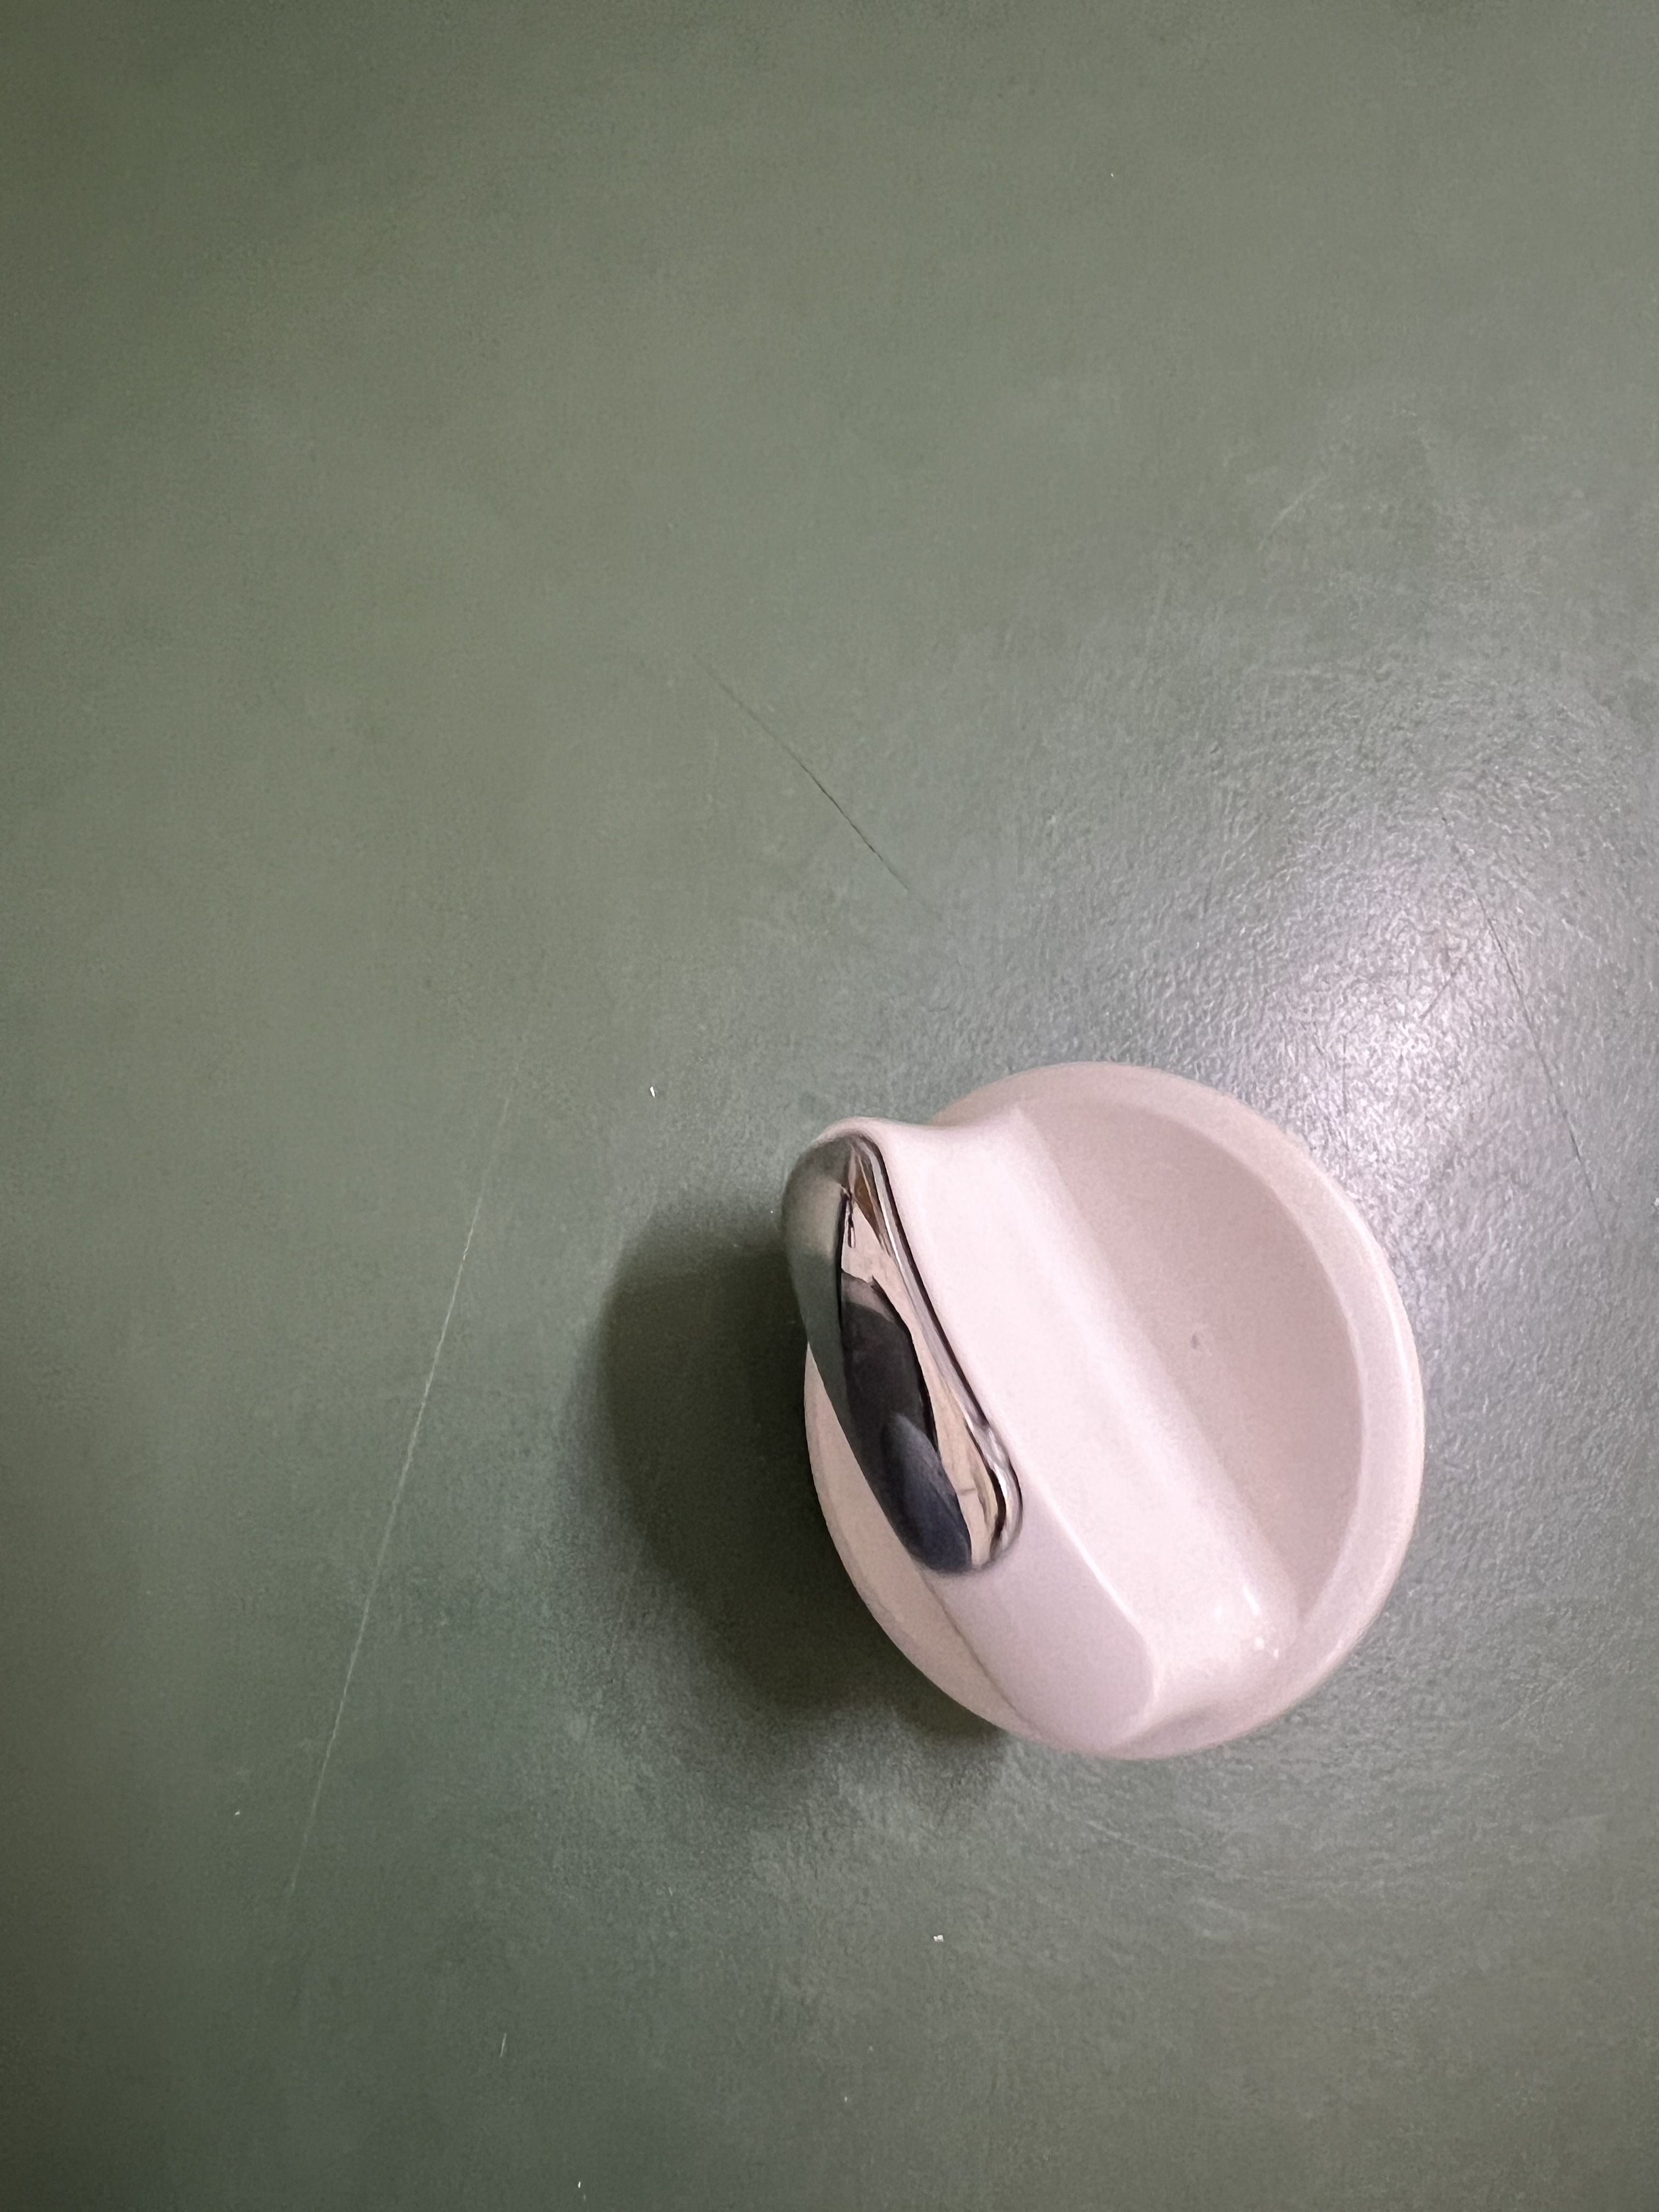regulator: (777, 1047, 1420, 1784)
